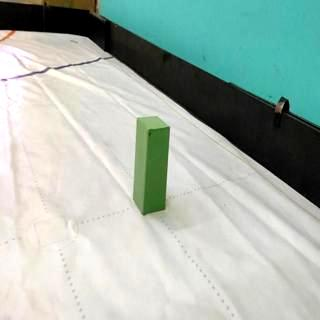greenbox: (132, 115, 172, 218)
